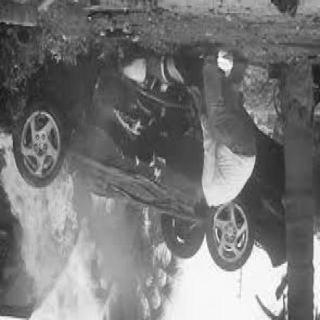Fire: (0, 134, 89, 310)
